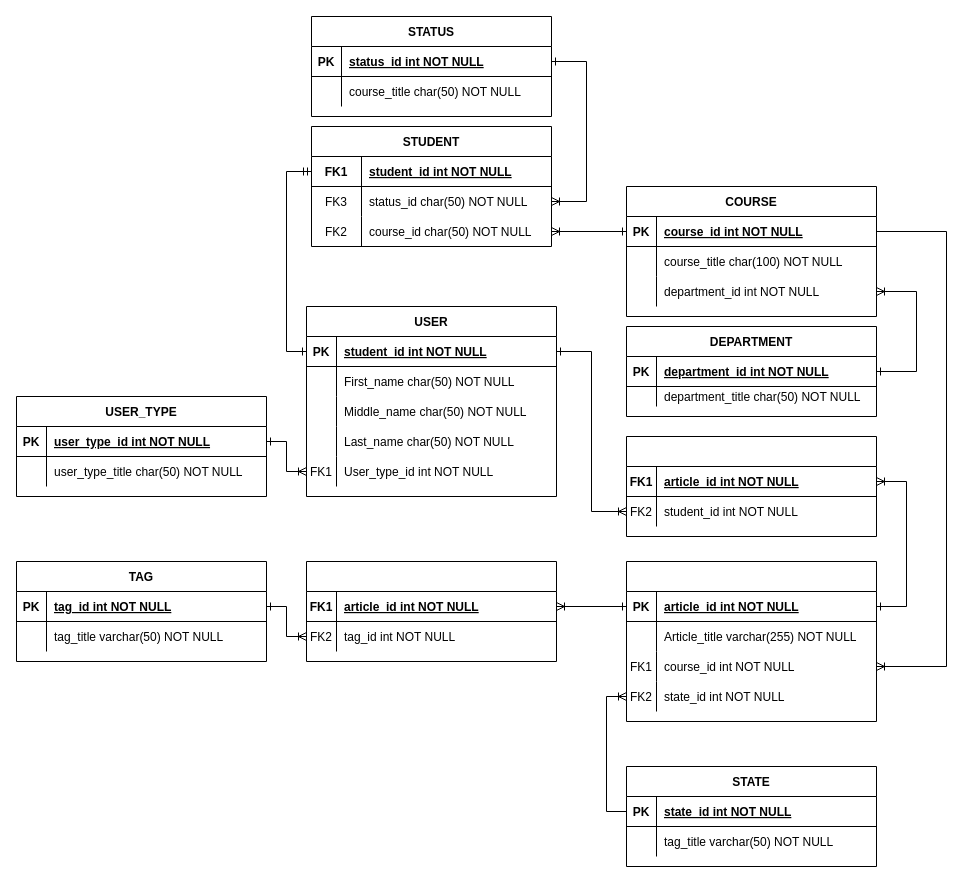
Some shapes in this 963 by 883 pixel diagram are drawn without their labels. Each missing label, with the box of its shape:
ARTICLE_TAGS: (306, 560, 556, 662)
ARTICLES: (626, 560, 876, 722)
AUTHORS: (626, 436, 876, 536)
